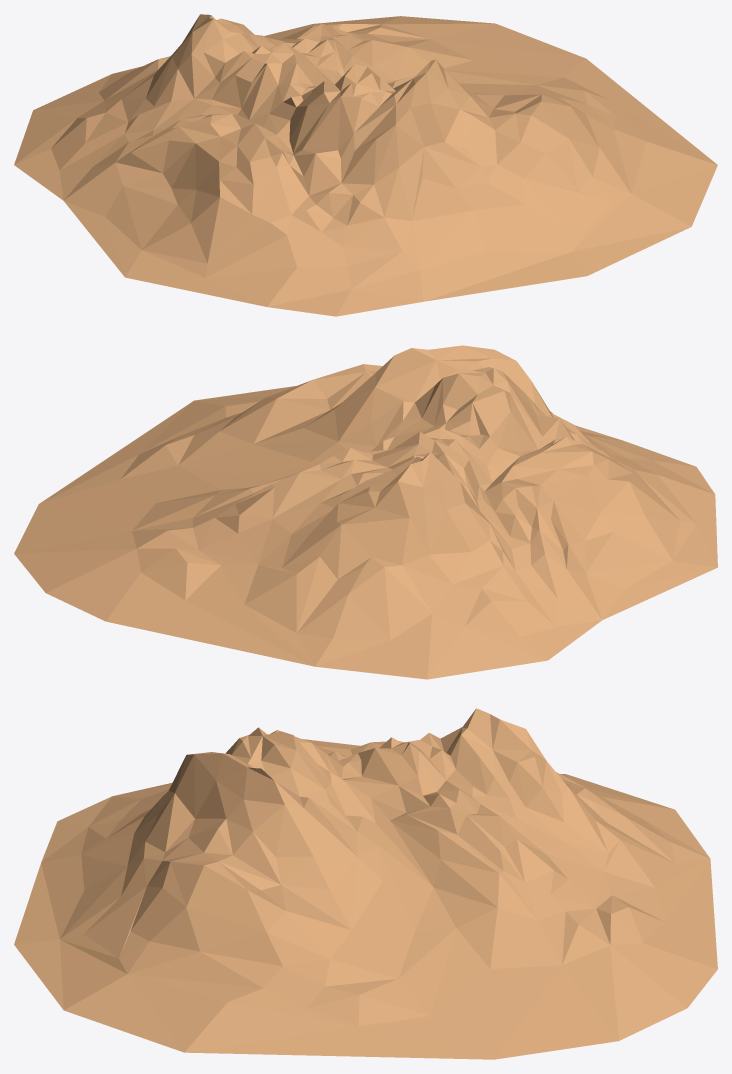
Rendered from Terrain_C.fbx.
3 renders of one model, top to bottom at view 1: azimuth 30°, elevation 25°; view 2: azimuth 150°, elevation 25°; view 3: azimuth 270°, elevation 25°, orthographic. The views are drawn at different scales.
Visible parts, largest first — view 1: Terrain_C; view 2: Terrain_C; view 3: Terrain_C.
Boxes of the visible parts, x1,y1,x2,y2 form: Terrain_C: (14,14,717,316); Terrain_C: (14,345,717,679); Terrain_C: (14,708,717,1059).
Size of the model in its own units: 15349 by 3712 by 15216.
